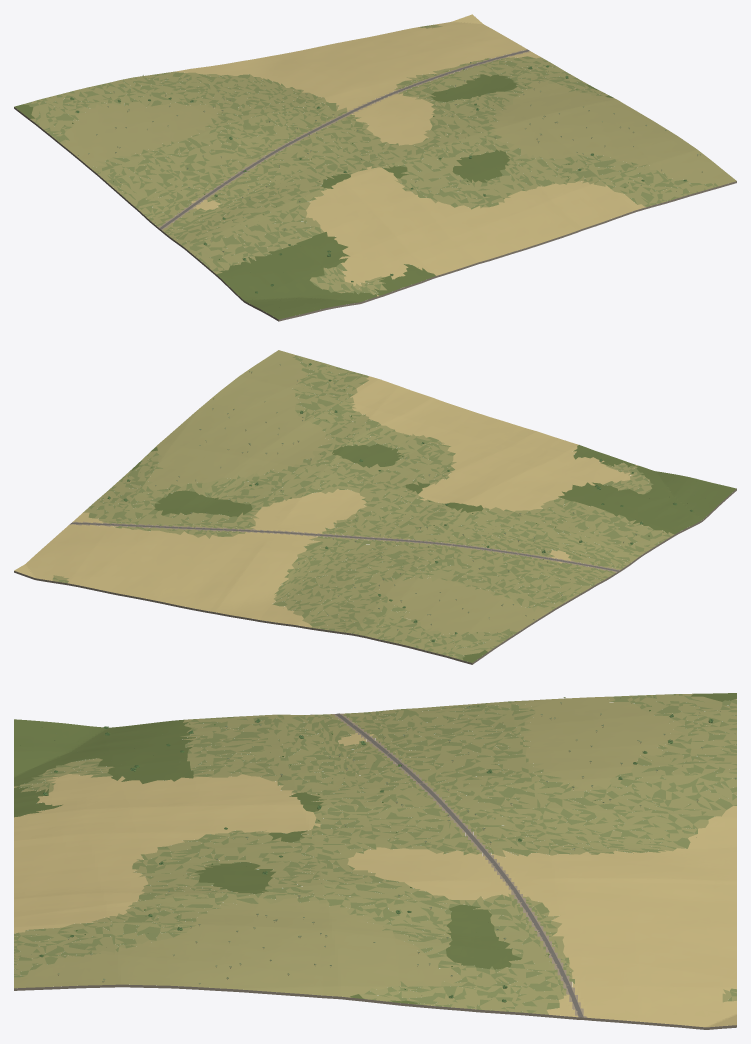
The model's file is parca_-2_-3-yakin.glb.
The picture shows the model from 3 angles, top to bottom: view 1: azimuth 30°, elevation 25°; view 2: azimuth 150°, elevation 25°; view 3: azimuth 270°, elevation 25°; orthographic projection. The views are drawn at different scales.
Visible parts, largest first — view 1: parca_-2_-3_arazi, parca_-2_-3_yollar, parca_-2_-3_bitkiler; view 2: parca_-2_-3_arazi, parca_-2_-3_yollar, parca_-2_-3_bitkiler; view 3: parca_-2_-3_arazi, parca_-2_-3_yollar, parca_-2_-3_bitkiler.
Boxes of the visible parts, bbox=[...] form: parca_-2_-3_arazi: bbox=[14, 14, 736, 321]; parca_-2_-3_yollar: bbox=[159, 50, 529, 229]; parca_-2_-3_bitkiler: bbox=[59, 62, 702, 293]; parca_-2_-3_arazi: bbox=[14, 350, 736, 664]; parca_-2_-3_yollar: bbox=[71, 522, 618, 571]; parca_-2_-3_bitkiler: bbox=[107, 363, 717, 643]; parca_-2_-3_arazi: bbox=[14, 693, 736, 1029]; parca_-2_-3_yollar: bbox=[335, 713, 583, 1017]; parca_-2_-3_bitkiler: bbox=[20, 697, 736, 1002].
Size of the model in its own units: 1002 by 81.22 by 1000.
